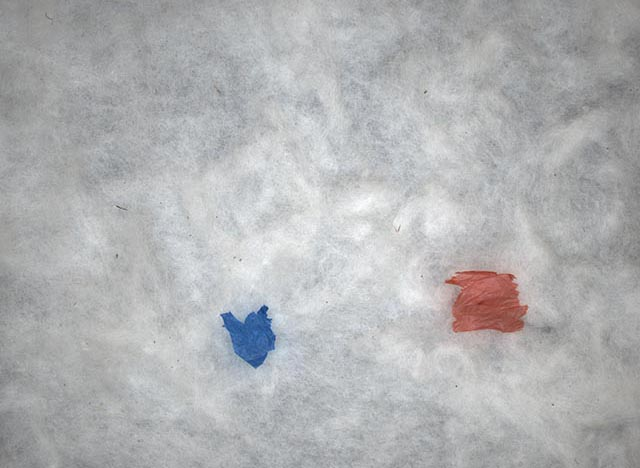plastic film: (445, 269, 530, 334), (219, 304, 277, 370)
